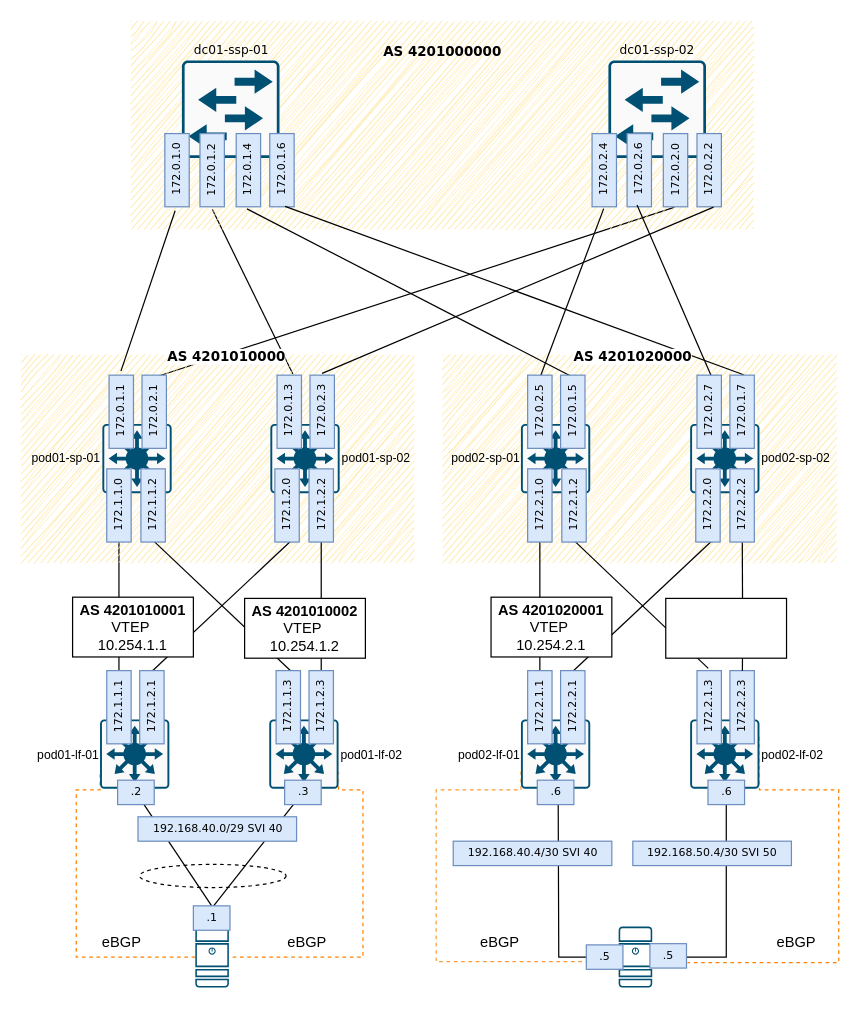
Some shapes in this 861 by 1030 pixel diagram are drawn without their labels. Here are the shapes that lost their labels. From the top down, the centre of each, then its label:
the point at 726,627: AS 4201020002 VTEP 10.254.2.2
the point at 211,956: pod01-host-01
the point at 635,956: pod02-host-01
